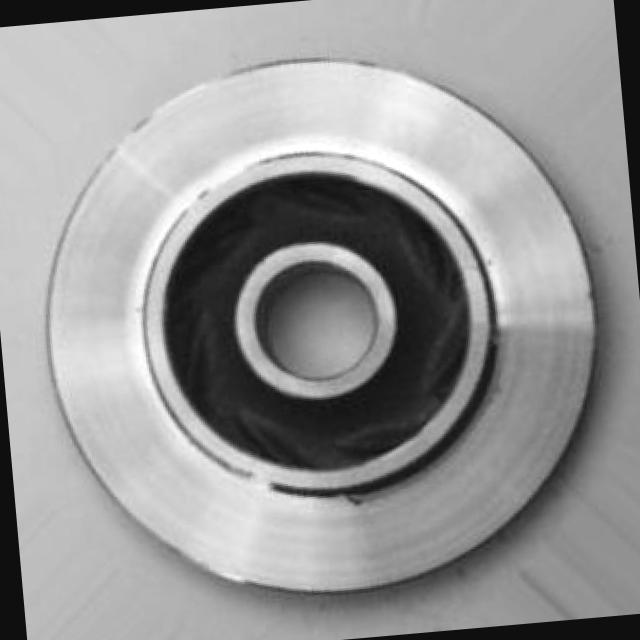Defect: (334, 480, 386, 520)
